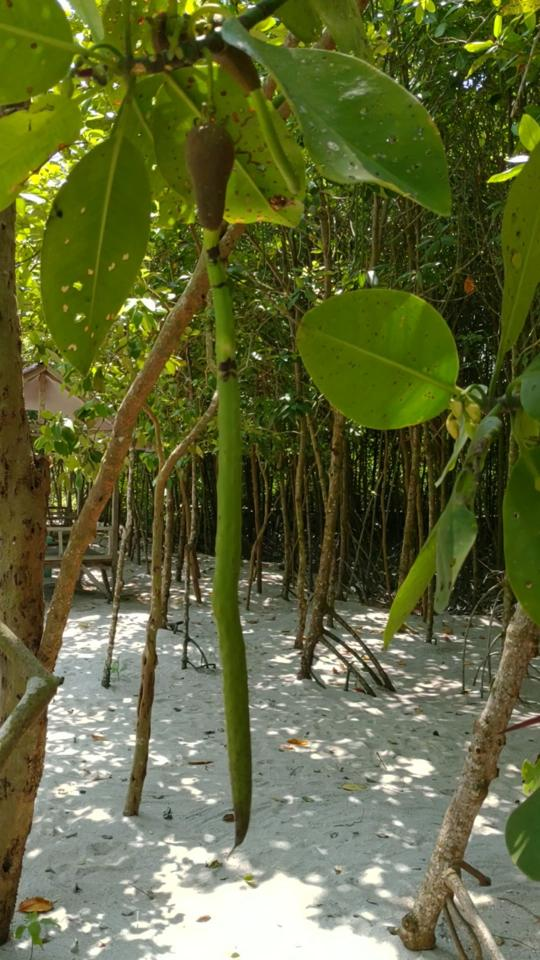mentah: (172, 100, 271, 853)
